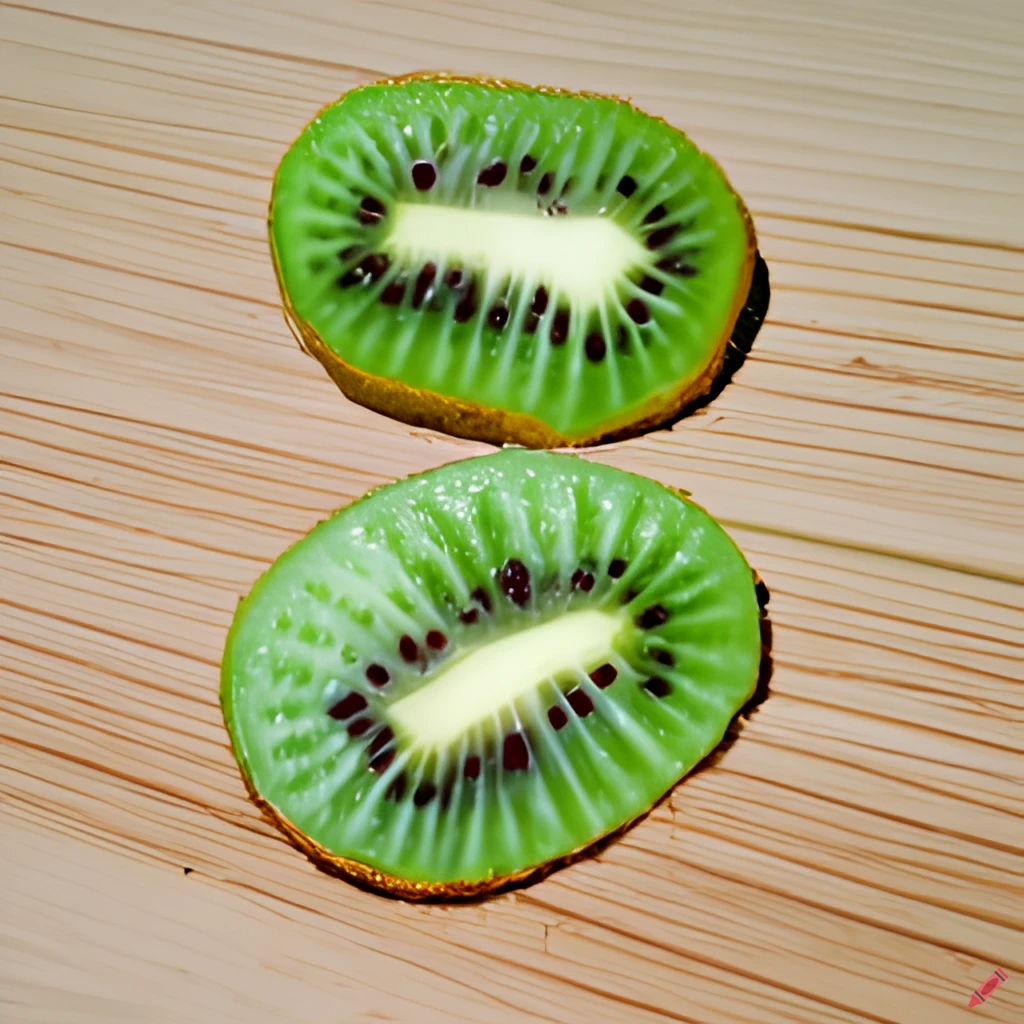Kiwi: (219, 426, 786, 937)
